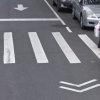Crosswalk: (2, 24, 91, 69)
